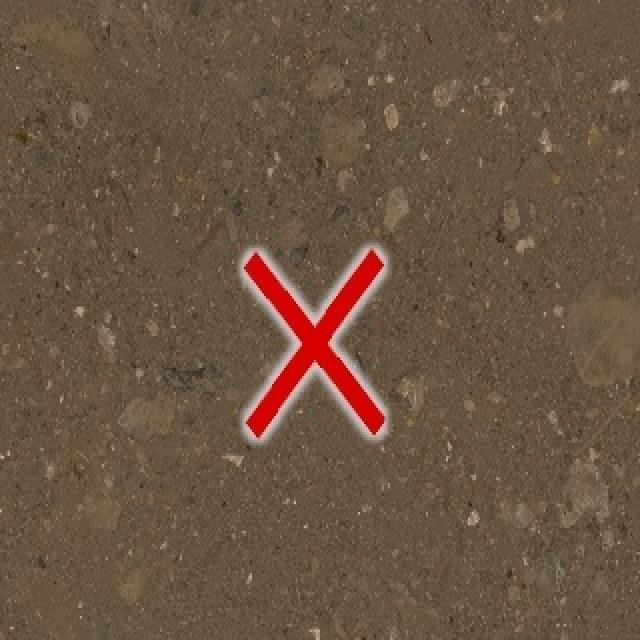x_marker: (243, 249, 383, 436)
